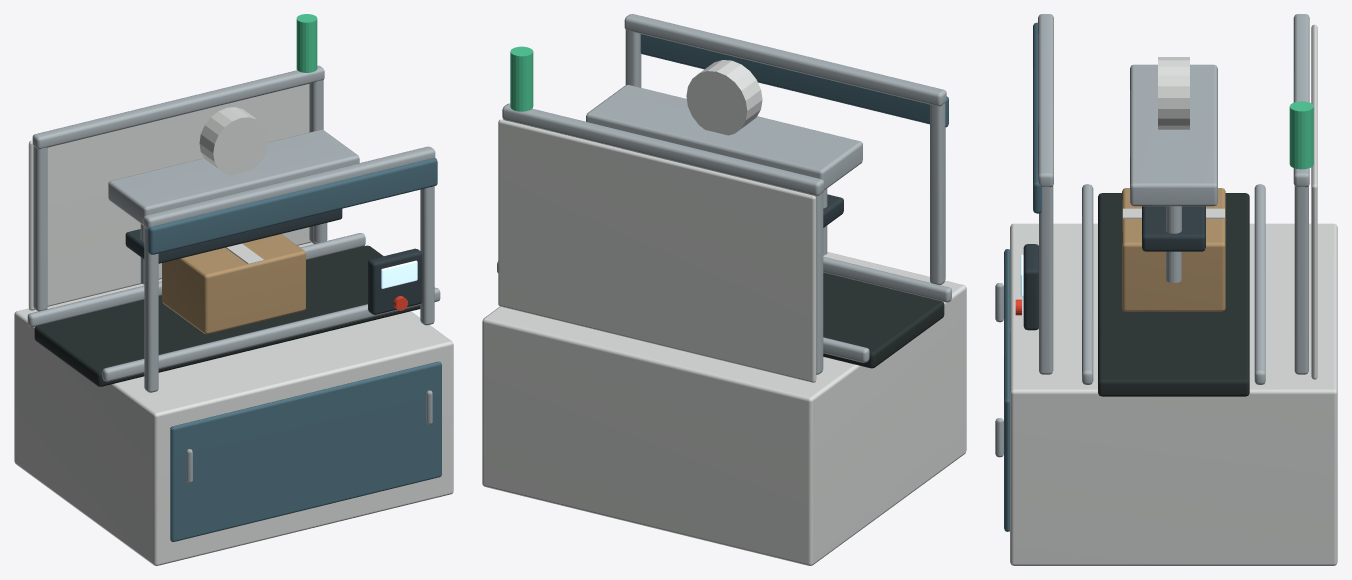
Rendered from packaging-cell.glb.
3 renders of one model, left to right at view 1: azimuth 30°, elevation 25°; view 2: azimuth 150°, elevation 25°; view 3: azimuth 270°, elevation 25°, orthographic. The views are drawn at different scales.
Parts seen in each view (by area): view 1: Cabinet, Door_panel, Back_panel, Conveyor, Carton, Sealer_bridge, Header, Top_rail, Guide_rail.001, Top_rail.001, Tape_roll, Guide_rail (+8 smaller); view 2: Cabinet, Back_panel, Sealer_bridge, Conveyor, Top_rail.001, Top_rail, Header, Tape_roll, Frame.001, Guide_rail.001, Tower, Frame (+2 smaller); view 3: Cabinet, Conveyor, Sealer_bridge, Carton, Frame.002, Top_rail.001, Frame.003, Sealer, Guide_rail, Guide_rail.001, Back_panel, Tape_roll (+6 smaller).
Boxes of the visible parts, bbox=[...] form: Cabinet: bbox=[14, 242, 453, 565]; Door_panel: bbox=[170, 361, 441, 541]; Back_panel: bbox=[28, 84, 310, 310]; Conveyor: bbox=[34, 245, 420, 386]; Carton: bbox=[162, 234, 305, 334]; Sealer_bridge: bbox=[108, 129, 359, 225]; Header: bbox=[148, 158, 437, 254]; Top_rail: bbox=[32, 65, 324, 149]; Guide_rail.001: bbox=[102, 287, 440, 381]; Top_rail.001: bbox=[143, 146, 435, 229]; Tape_roll: bbox=[199, 107, 268, 175]; Guide_rail: bbox=[27, 233, 365, 326]; Cabinet: bbox=[482, 252, 966, 565]; Back_panel: bbox=[498, 119, 816, 382]; Sealer_bridge: bbox=[586, 85, 862, 190]; Conveyor: bbox=[823, 272, 944, 368]; Top_rail.001: bbox=[624, 14, 946, 106]; Top_rail: bbox=[502, 103, 824, 195]; Header: bbox=[640, 34, 948, 127]; Tape_roll: bbox=[686, 60, 762, 135]; Frame.001: bbox=[930, 103, 945, 284]; Guide_rail.001: bbox=[823, 257, 951, 302]; Tower: bbox=[510, 46, 533, 111]; Frame: bbox=[809, 192, 823, 374]; Cabinet: bbox=[1010, 223, 1337, 565]; Conveyor: bbox=[1098, 193, 1249, 396]; Sealer_bridge: bbox=[1130, 64, 1217, 206]; Carton: bbox=[1122, 188, 1225, 311]; Frame.002: bbox=[1294, 186, 1308, 374]; Top_rail.001: bbox=[1038, 14, 1053, 187]; Frame.003: bbox=[1039, 186, 1053, 374]; Sealer: bbox=[1142, 206, 1205, 251]; Guide_rail: bbox=[1254, 184, 1265, 384]; Guide_rail.001: bbox=[1082, 184, 1093, 384]; Back_panel: bbox=[1311, 24, 1317, 379]; Tape_roll: bbox=[1158, 57, 1189, 129].
Bounding box in the file's own units: 2.8 × 3.16 × 2.14.
